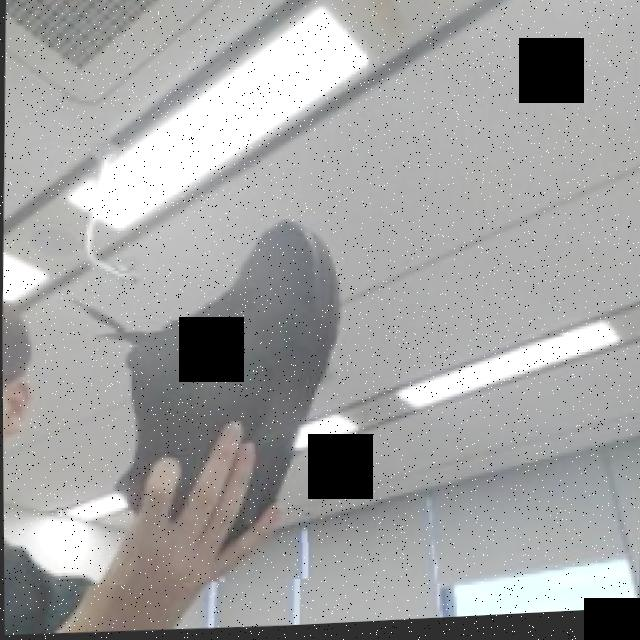shoe: (50, 200, 381, 593)
